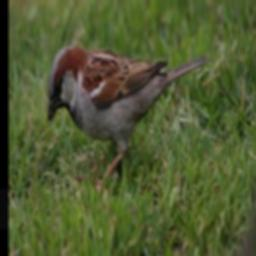Sparrow: (45, 42, 208, 194)
